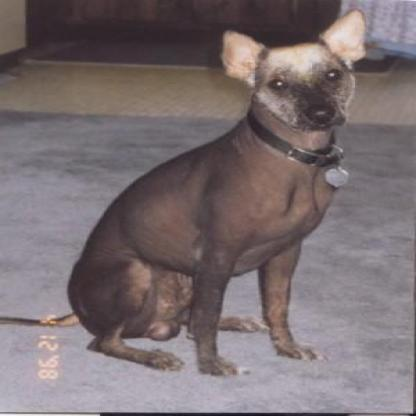Mexican_hairless: (0, 5, 367, 377)
